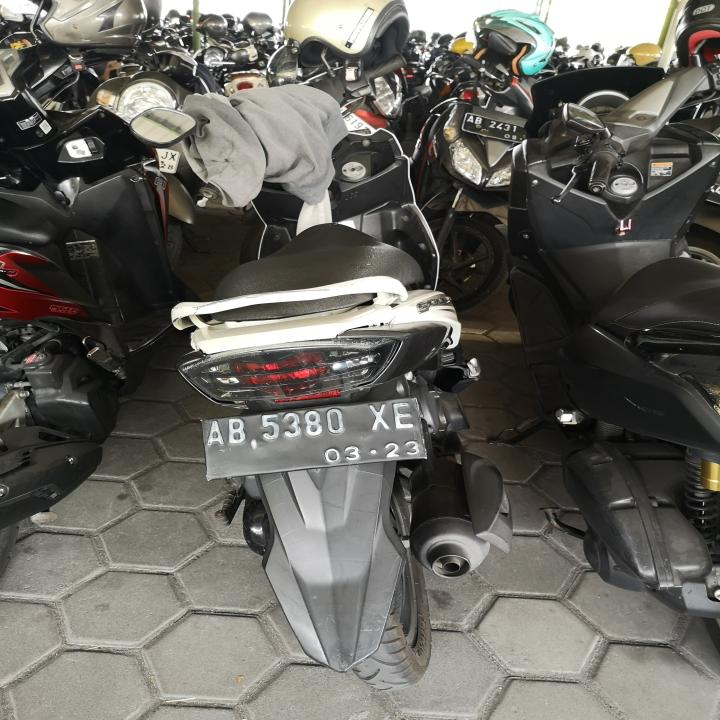plate: (198, 395, 429, 484), (460, 112, 526, 144)
